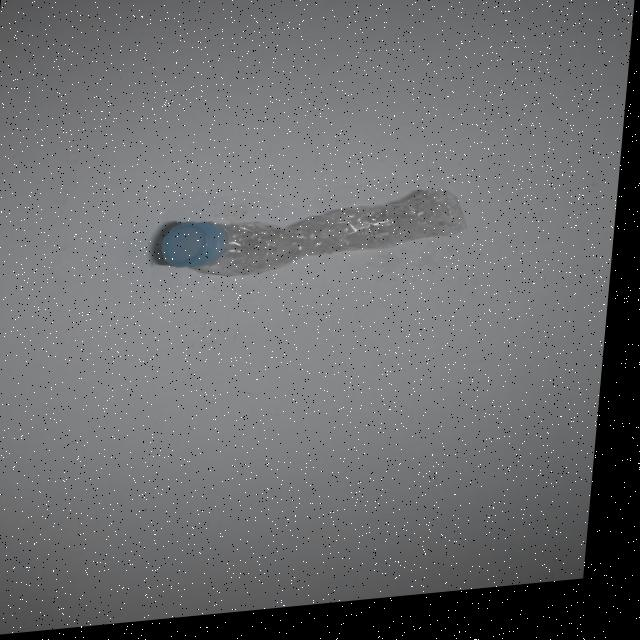litter: (156, 220, 234, 282)
